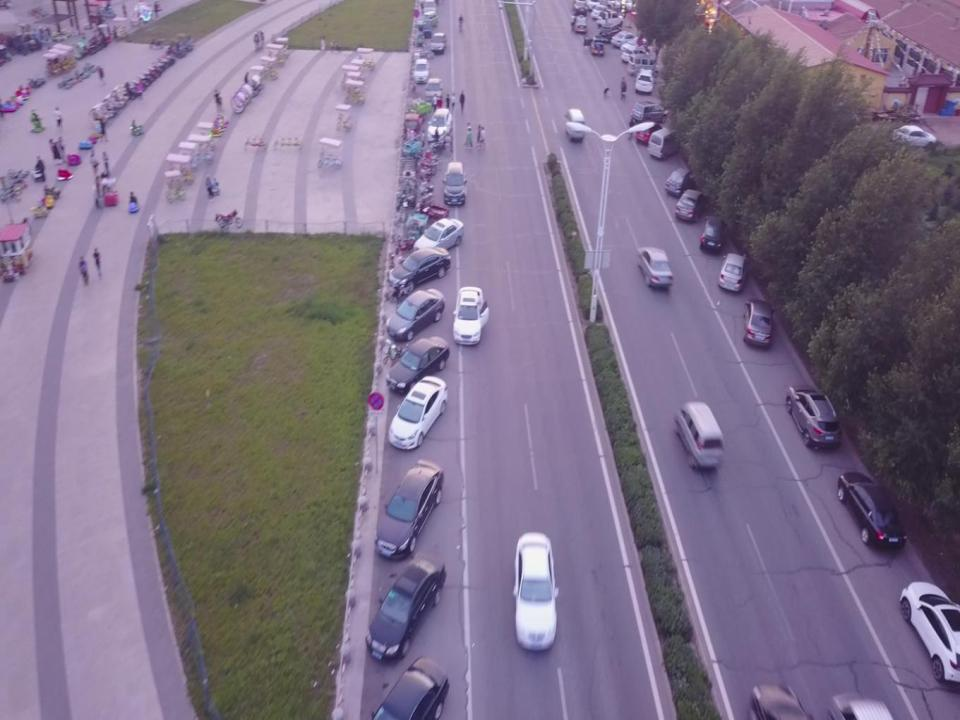car: (365, 550, 446, 662), (374, 459, 444, 558), (899, 582, 959, 683), (837, 470, 906, 550), (513, 534, 558, 651), (368, 656, 449, 720), (388, 375, 448, 451), (386, 336, 450, 393), (786, 382, 842, 447), (386, 287, 446, 341), (389, 246, 451, 290), (452, 286, 488, 344), (744, 298, 776, 348), (413, 219, 464, 250), (637, 247, 673, 287), (716, 252, 750, 292), (890, 124, 938, 150), (675, 188, 709, 222), (443, 162, 467, 205), (665, 166, 699, 196), (699, 216, 728, 251), (426, 107, 452, 142), (631, 101, 669, 124), (636, 119, 667, 145), (596, 9, 623, 28), (425, 77, 443, 105), (620, 47, 653, 62), (635, 68, 654, 94), (599, 22, 623, 42), (612, 31, 640, 48), (584, 34, 605, 54), (621, 38, 647, 54), (414, 58, 430, 84), (418, 10, 438, 30), (430, 32, 447, 54), (591, 4, 611, 19), (572, 0, 588, 16), (574, 15, 588, 33), (423, 0, 437, 14)
truck: (422, 18, 432, 38)
van: (674, 401, 725, 468), (650, 127, 682, 160), (628, 54, 661, 77), (563, 108, 585, 141)
